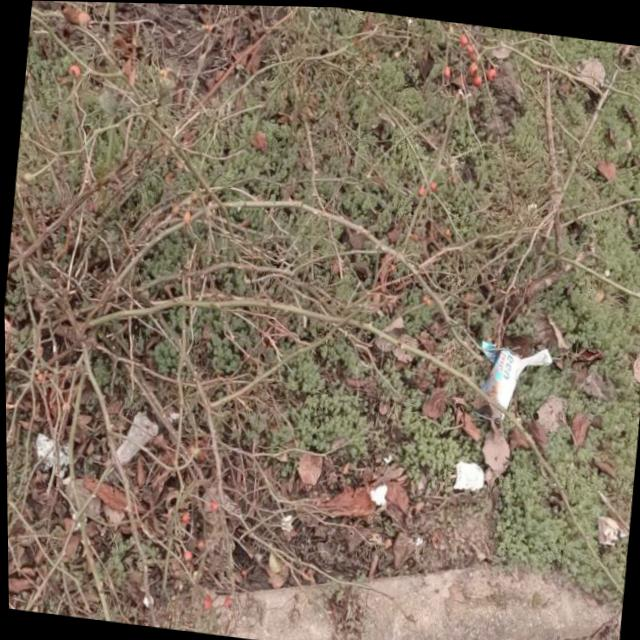Paper: (451, 456, 484, 491), (366, 479, 387, 505)
Plastic: (472, 336, 554, 424), (594, 511, 627, 545)
